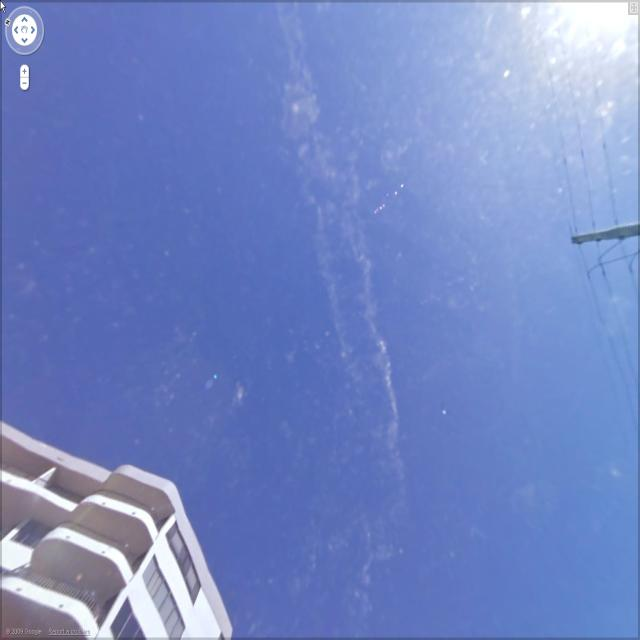b_1: (0, 416, 270, 640)
